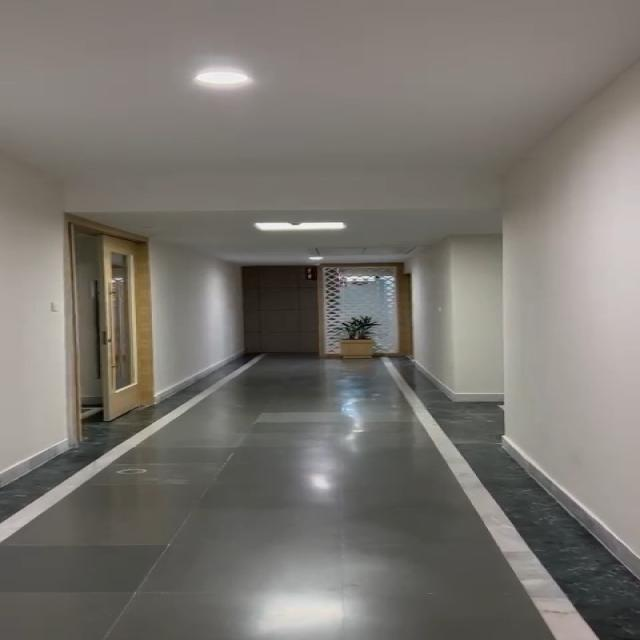door: (51, 212, 166, 418)
floor: (11, 460, 581, 640), (176, 356, 452, 466)
furniture: (326, 313, 383, 362)
wall: (408, 125, 640, 418), (0, 165, 78, 443), (161, 234, 253, 362)
